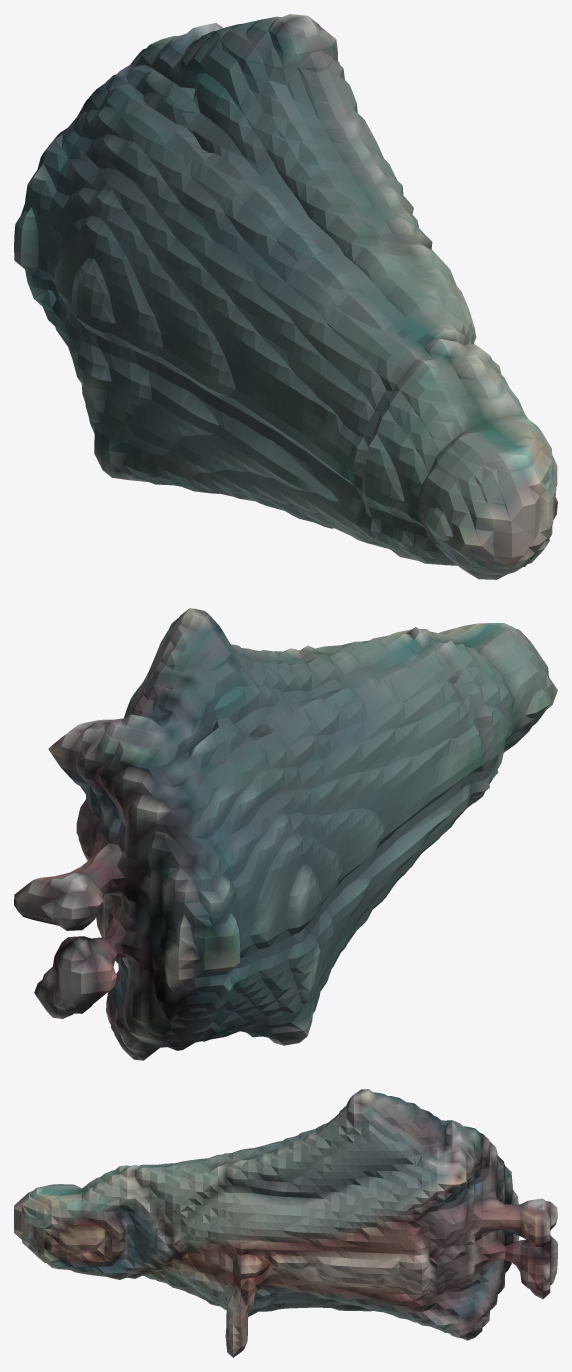
Rendered from medieval_scholar_f_0.glb.
3 renders of one model, top to bottom at view 1: azimuth 30°, elevation 25°; view 2: azimuth 150°, elevation 25°; view 3: azimuth 270°, elevation 25°, orthographic. The views are drawn at different scales.
Visible parts, largest first — view 1: world; view 2: world; view 3: world.
Boxes of the visible parts, box(x1,y1,x2,y2) form: world: box(14, 14, 557, 579); world: box(14, 608, 557, 1060); world: box(14, 1089, 557, 1357).
Size of the model in its own units: 0.3435 by 0.5061 by 0.9861.
